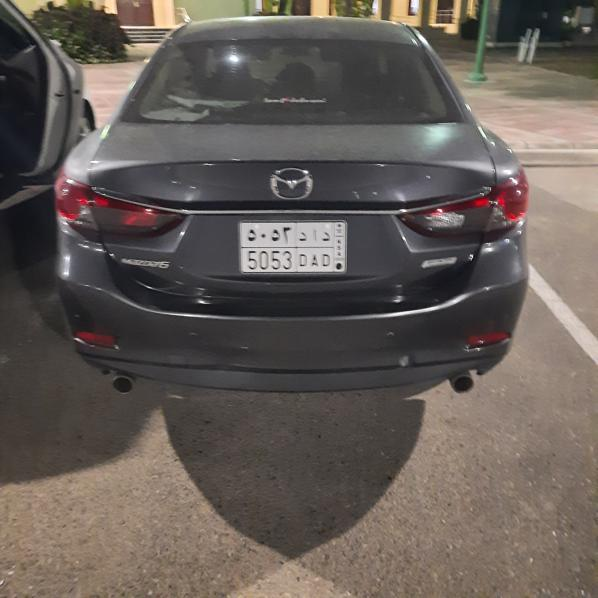numberplate: (240, 223, 348, 273)
